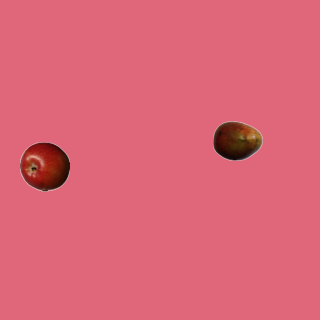Apple Braeburn: (19, 141, 69, 191)
Mango Red: (212, 115, 262, 165)
